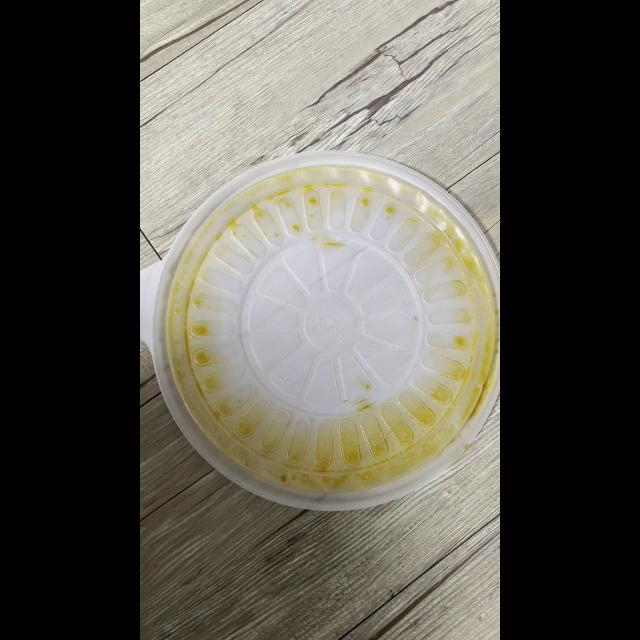dirty: (144, 151, 496, 499)
